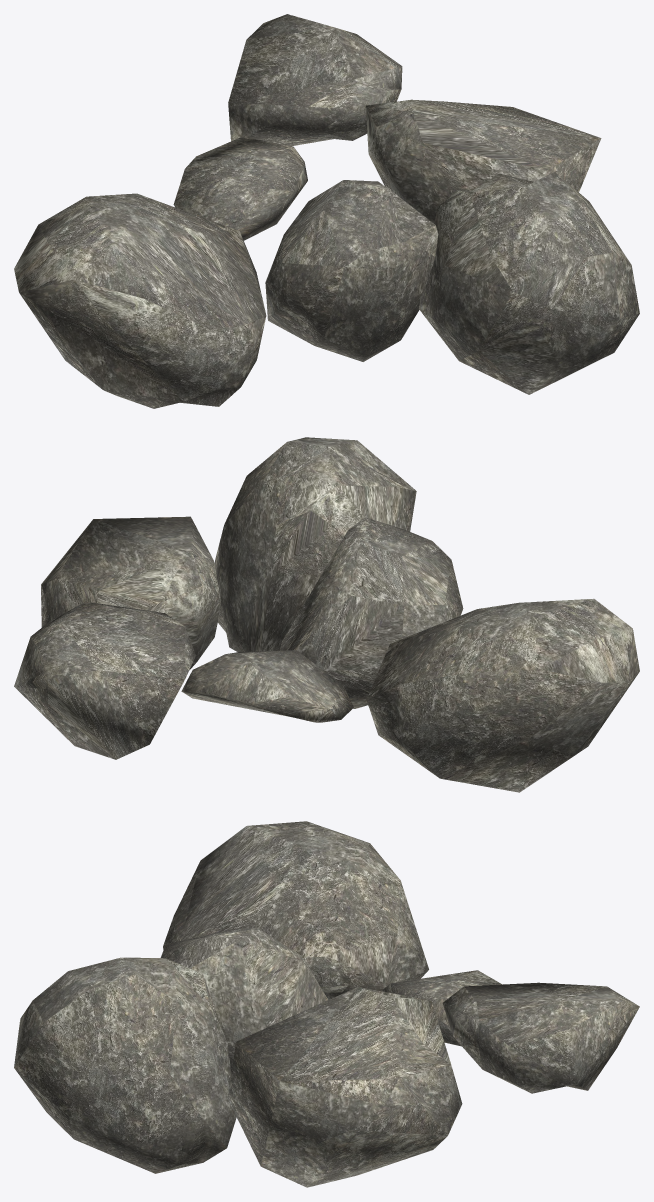
The model's file is Custom_Model_22044d-transformed.glb.
3 renders of one model, top to bottom at view 1: azimuth 30°, elevation 25°; view 2: azimuth 150°, elevation 25°; view 3: azimuth 270°, elevation 25°, orthographic. The views are drawn at different scales.
Visible parts, largest first — view 1: Untitled_CaveRubbleOne128, Untitled.001_CaveRubbleOne64; view 2: Untitled_CaveRubbleOne128, Untitled.001_CaveRubbleOne64; view 3: Untitled_CaveRubbleOne128, Untitled.001_CaveRubbleOne64.
Part boxes in pixels (x1,y1,x2,y2): Untitled_CaveRubbleOne128: (14,14,639,408); Untitled.001_CaveRubbleOne64: (34,68,600,406); Untitled_CaveRubbleOne128: (14,437,639,792); Untitled.001_CaveRubbleOne64: (14,456,611,792); Untitled_CaveRubbleOne128: (14,826,639,1185); Untitled.001_CaveRubbleOne64: (137,821,639,1187).
Bounding box in the file's own units: 1.96 × 0.6788 × 1.94.
Materials: 1 (1 with a texture image).
